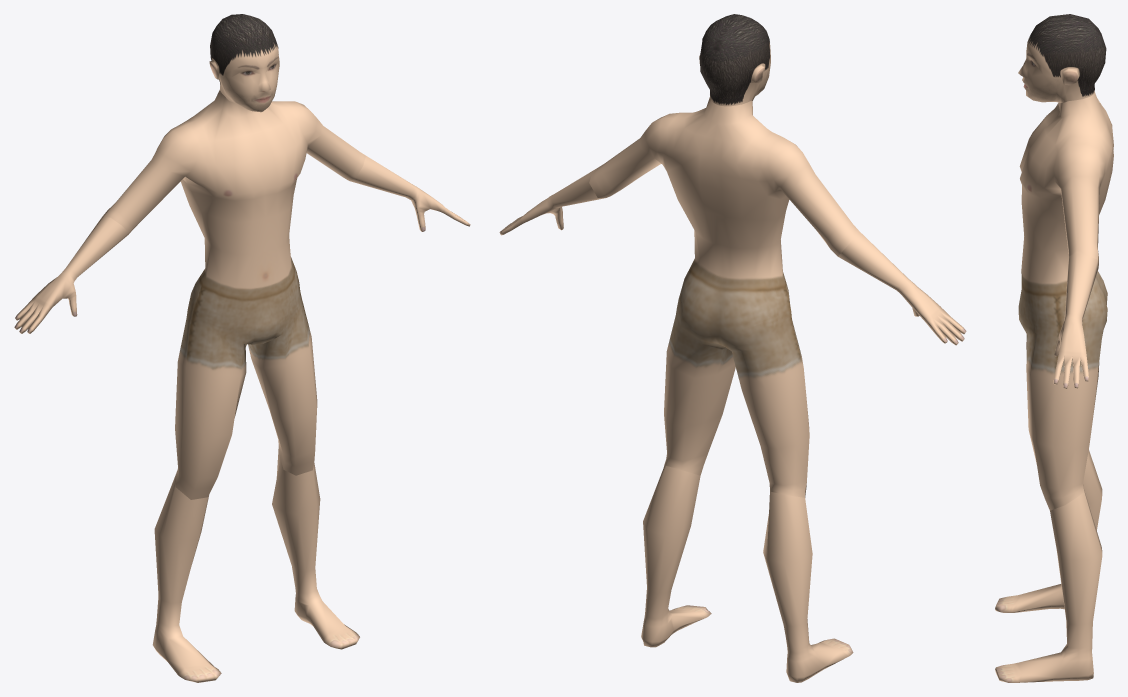
Rendered from dark.glb.
3 renders of one model, left to right at view 1: azimuth 30°, elevation 25°; view 2: azimuth 150°, elevation 25°; view 3: azimuth 270°, elevation 25°, orthographic. The views are drawn at different scales.
Parts seen in each view (by area): view 1: reference_model; view 2: reference_model; view 3: reference_model.
Part boxes in pixels (left/top/right/bottom): reference_model: left=14, top=14, right=470, bottom=682; reference_model: left=499, top=14, right=966, bottom=682; reference_model: left=995, top=14, right=1113, bottom=682.
Size of the model in its own units: 13.64 by 18.07 by 3.12.
Materials: 6 (6 with a texture image).
